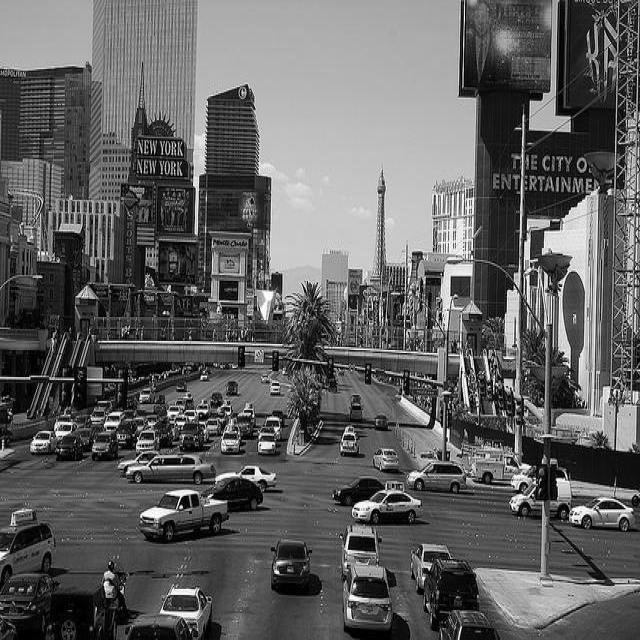vehicle: (0, 329, 575, 639), (139, 487, 230, 543), (340, 563, 394, 633), (158, 583, 213, 640), (351, 489, 423, 526), (510, 479, 570, 523), (339, 524, 385, 576), (270, 538, 314, 592), (569, 497, 635, 531), (201, 478, 264, 510), (471, 453, 531, 485), (101, 562, 129, 624), (440, 610, 499, 631), (372, 448, 401, 472), (257, 431, 277, 455), (223, 424, 241, 439)
